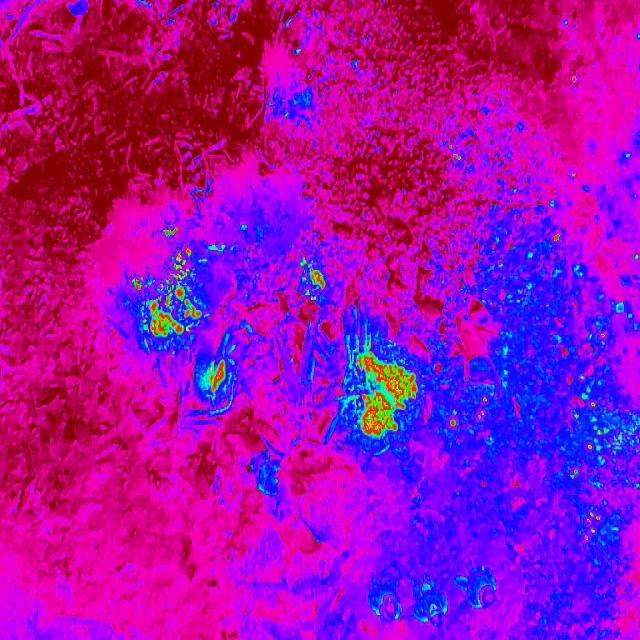fire: (546, 222, 640, 548), (352, 342, 420, 442), (130, 251, 203, 341), (444, 392, 494, 437), (299, 258, 331, 298), (202, 356, 231, 398), (446, 139, 465, 167), (160, 227, 180, 241)
